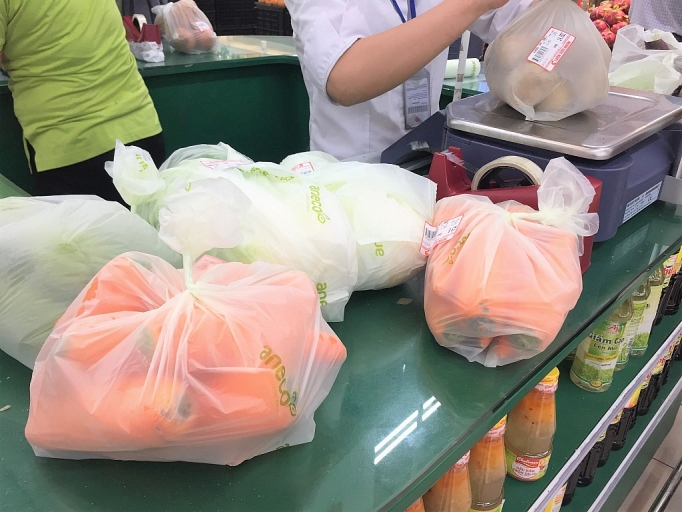plastic bag: (1, 138, 603, 466), (26, 251, 349, 468), (419, 157, 600, 374), (480, 1, 610, 123), (610, 28, 682, 96)
